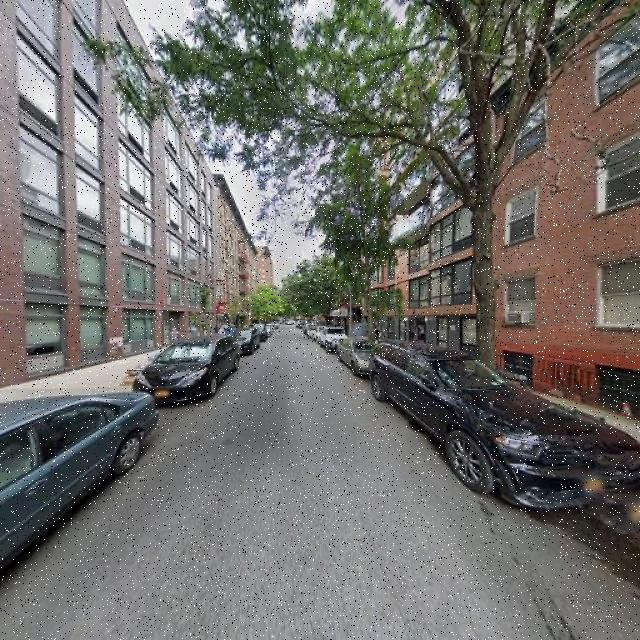Building: (1, 1, 220, 388), (498, 1, 640, 404)
